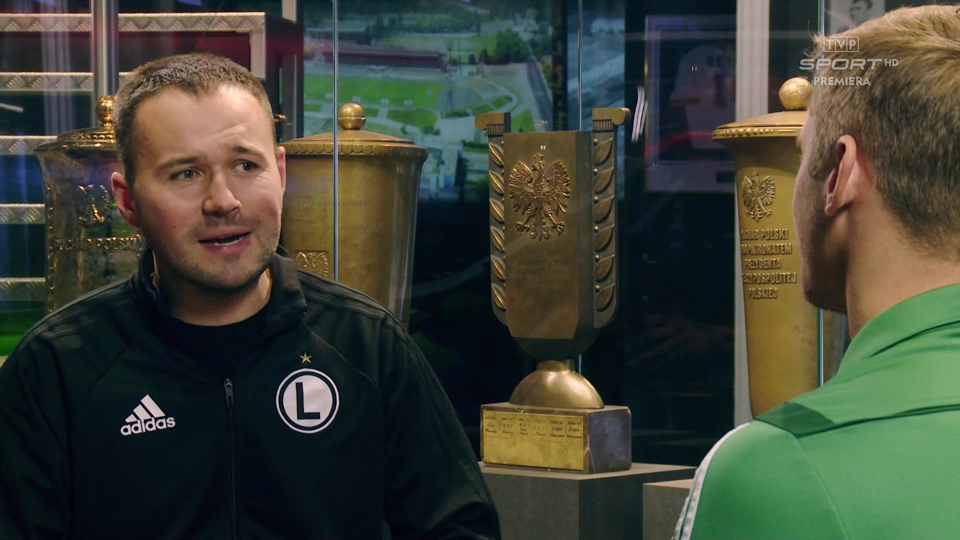Adidas: (118, 394, 178, 436)
